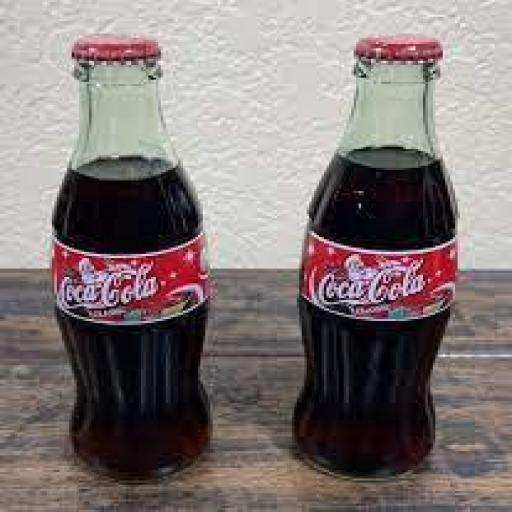glass bottle: (49, 32, 220, 483), (290, 34, 460, 480)
